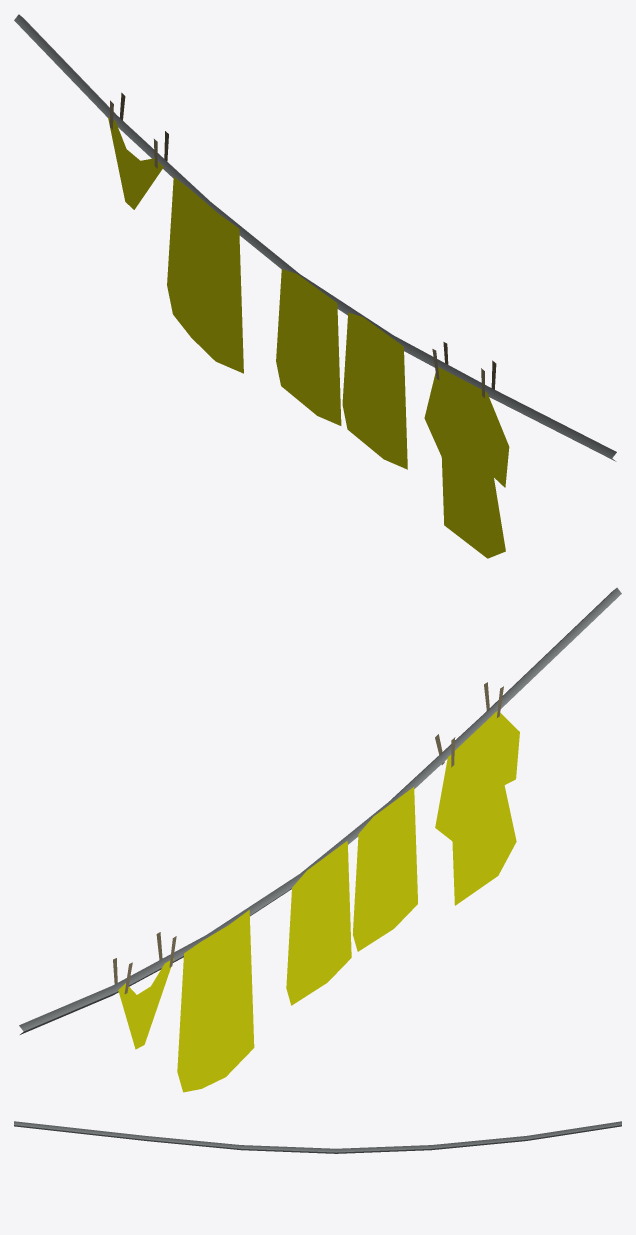
File: ClothesLine01.glb
3 views of the same model, one above another, from view 1: azimuth 30°, elevation 25°; view 2: azimuth 150°, elevation 25°; view 3: azimuth 270°, elevation 25° (orthographic). The views are drawn at different scales.
Visible parts, largest first — view 1: ClothesLine01; view 2: ClothesLine01; view 3: ClothesLine01.
Boxes of the visible parts, box(x1,y1,x2,y2) form: ClothesLine01: box(14, 14, 616, 558); ClothesLine01: box(19, 587, 621, 1092); ClothesLine01: box(14, 1121, 621, 1153).
Bounding box in the file's own units: 0.1438 × 1.9 × 10.39.
2 materials, 1 textured.
